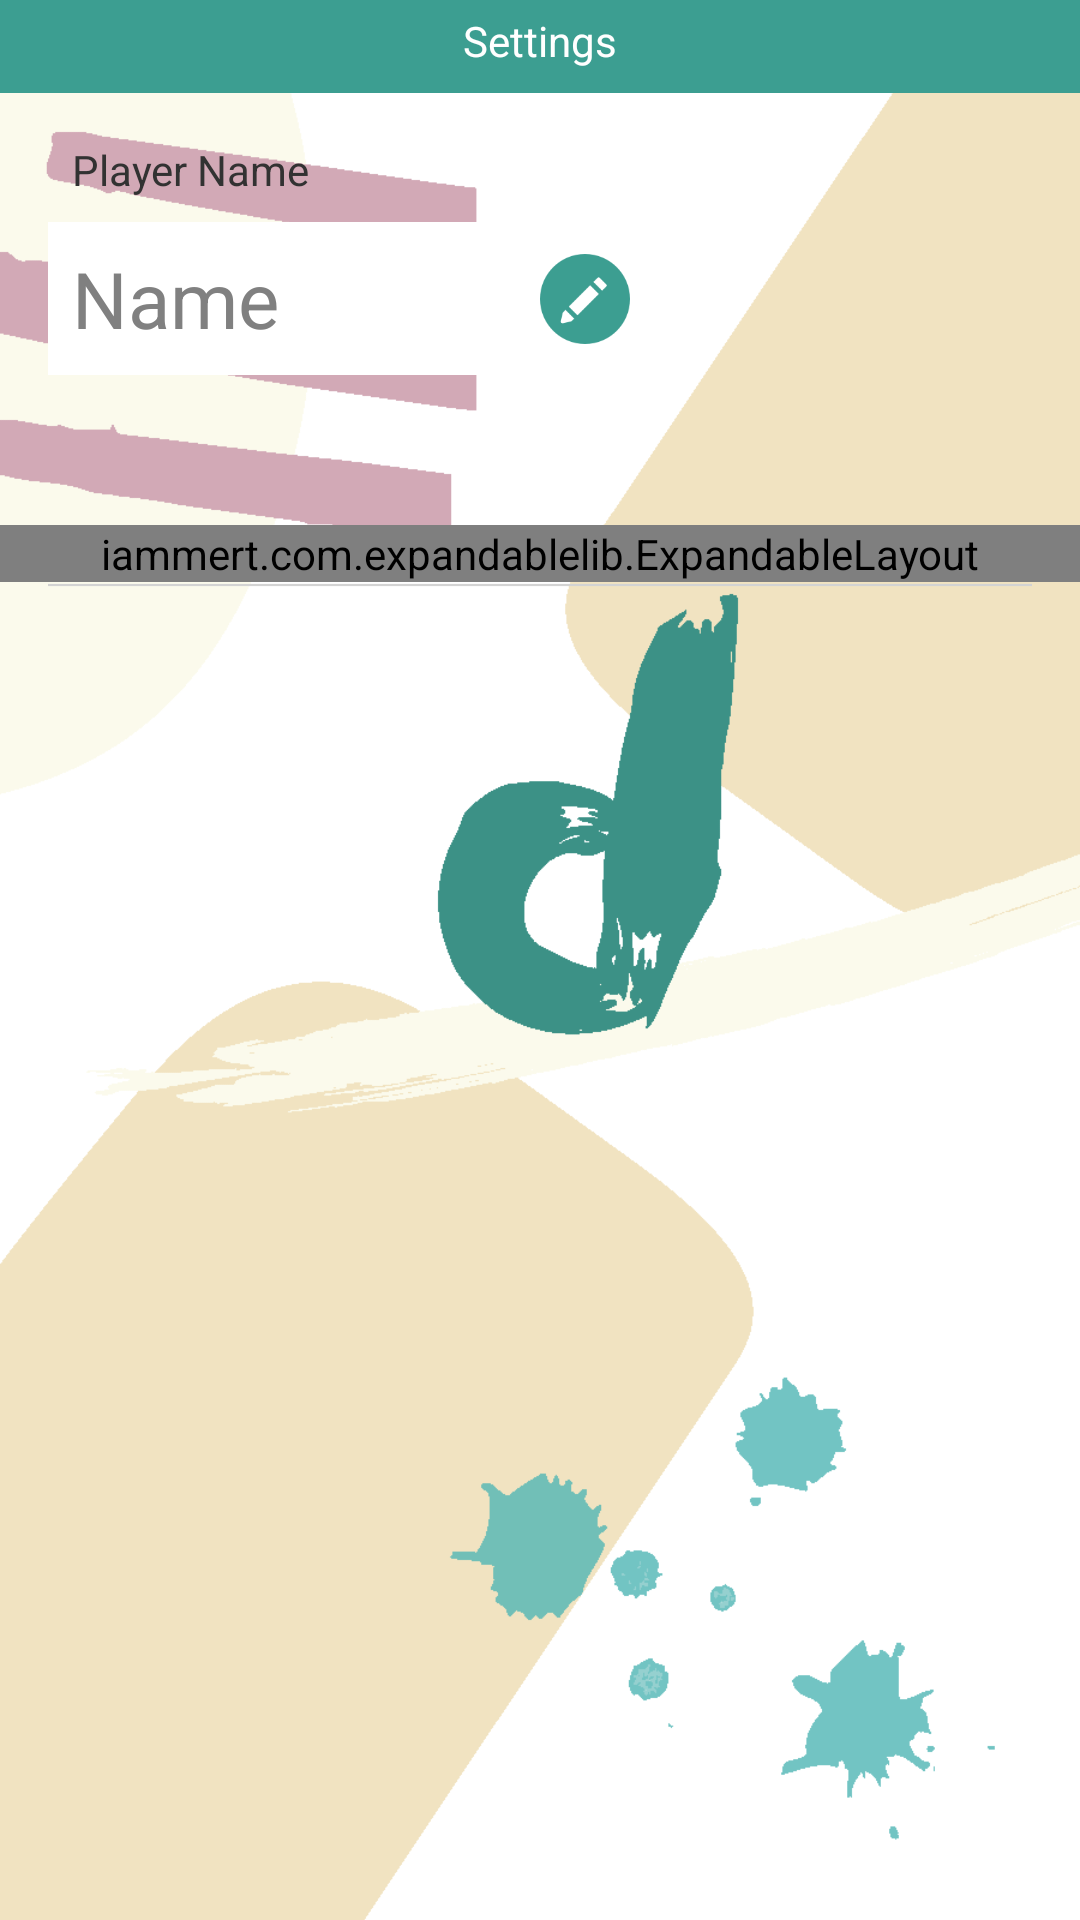

Icons on this 1080 x 1920 Android screen, each with the point to tap as (x=x, y=y):
edit: (x=585, y=299)
